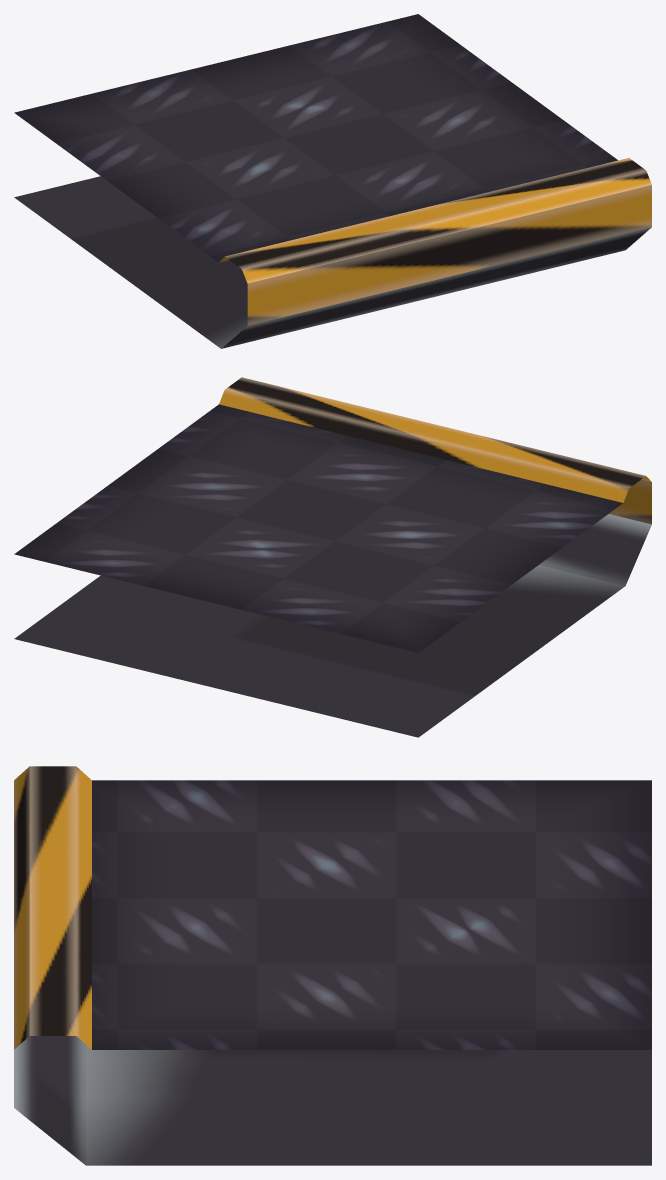
Rendered from PlataformDownStraight.fbx.
3 renders of one model, top to bottom at view 1: azimuth 30°, elevation 25°; view 2: azimuth 150°, elevation 25°; view 3: azimuth 270°, elevation 25°, orthographic. The views are drawn at different scales.
Parts seen in each view (by area): view 1: PlataformDownStraight; view 2: PlataformDownStraight; view 3: PlataformDownStraight.
Part boxes in pixels (x1,y1,x2,y2): PlataformDownStraight: (14,14,651,348); PlataformDownStraight: (14,377,651,737); PlataformDownStraight: (14,766,651,1165).
Size of the model in its own units: 100 by 22.45 by 100.
